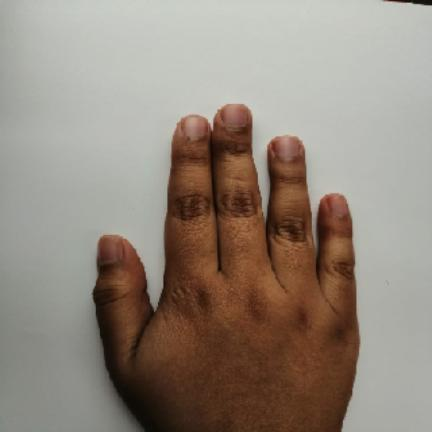Nail: (98, 235, 123, 266), (221, 104, 249, 127), (183, 115, 208, 138), (275, 136, 300, 158), (328, 194, 347, 216)
